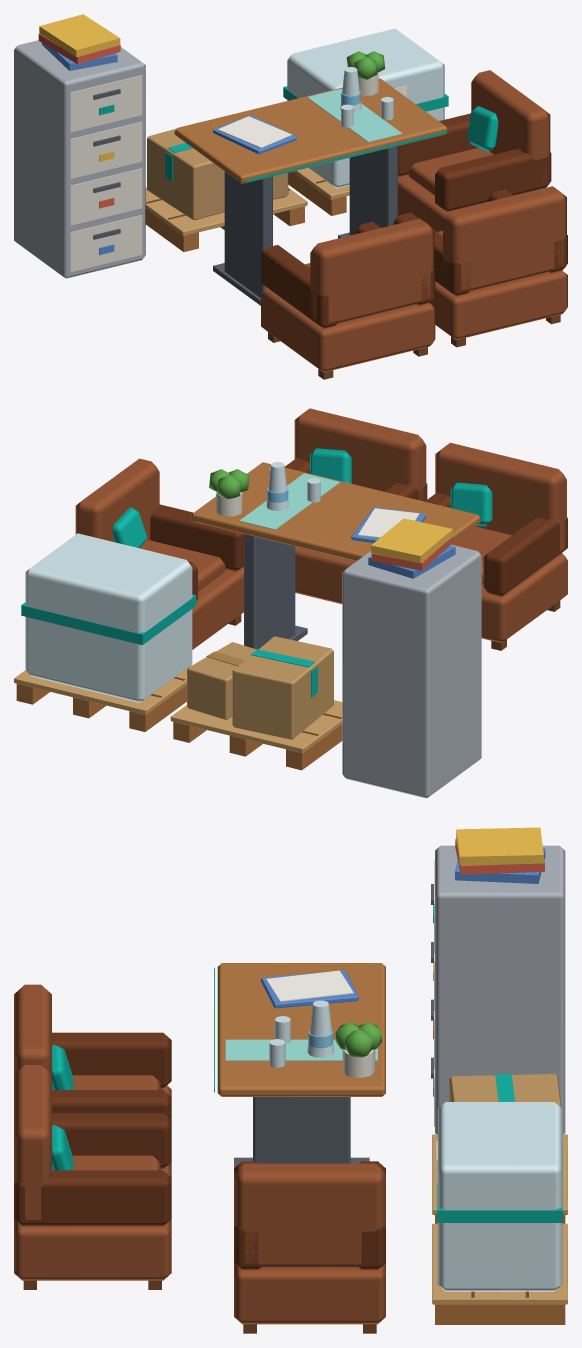
File: station_special_2.glb
3 views of the same model, one above another, from view 1: azimuth 30°, elevation 25°; view 2: azimuth 150°, elevation 25°; view 3: azimuth 270°, elevation 25° (orthographic). The views are drawn at different scales.
Visible parts, largest first — view 1: station_special_2; view 2: station_special_2; view 3: station_special_2.
Boxes of the visible parts, x1=… form: station_special_2: x1=14, y1=14, x2=567, y2=379; station_special_2: x1=14, y1=408, x2=567, y2=798; station_special_2: x1=14, y1=827, x2=567, y2=1333.
Bounding box in the file's own units: 2.16 × 1.11 × 2.04.
